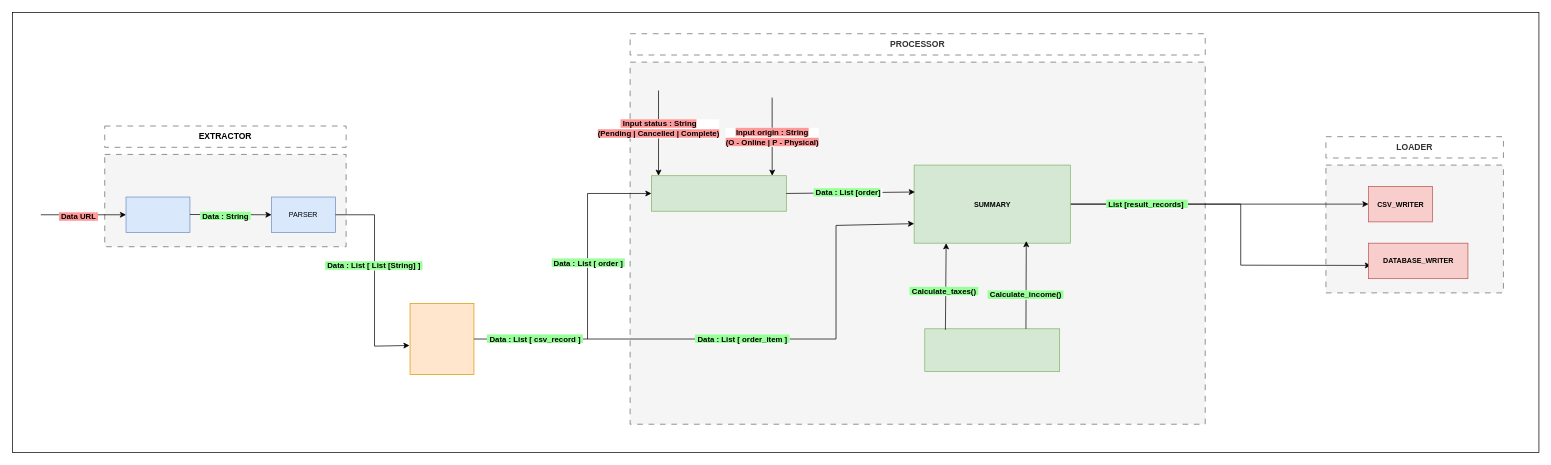
Image size: 1551x465. Some labels were removed from this diagram. Each missing label, with the box of its shape:
CALCULATOR: (924, 328, 1060, 371)
FILTERED: (651, 175, 786, 211)
HELPER: (409, 303, 474, 375)
READER: (125, 196, 190, 233)
